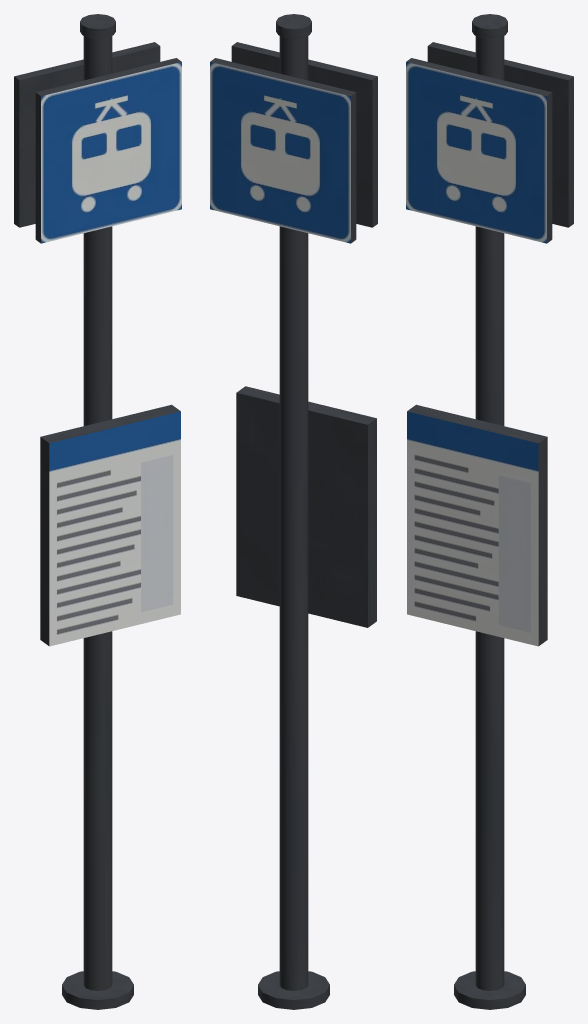
File: totem_arret_lod0.glb
3 views of the same model, side by side, from view 1: azimuth 30°, elevation 25°; view 2: azimuth 150°, elevation 25°; view 3: azimuth 330°, elevation 25° (orthographic).
Parts seen in each view (by area): view 1: totem_arret; view 2: totem_arret; view 3: totem_arret.
Boxes of the visible parts, x1,y1,x2,y2 form: totem_arret: (14, 14, 181, 1009); totem_arret: (210, 14, 377, 1009); totem_arret: (406, 14, 573, 1009).
Size of the model in its own units: 0.45 by 2.97 by 0.2.
Materials: 1 (1 with a texture image).
